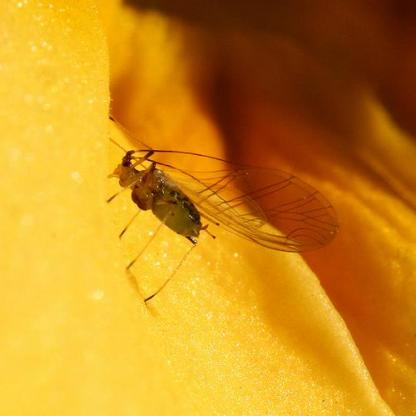aphid: (107, 132, 339, 319)
